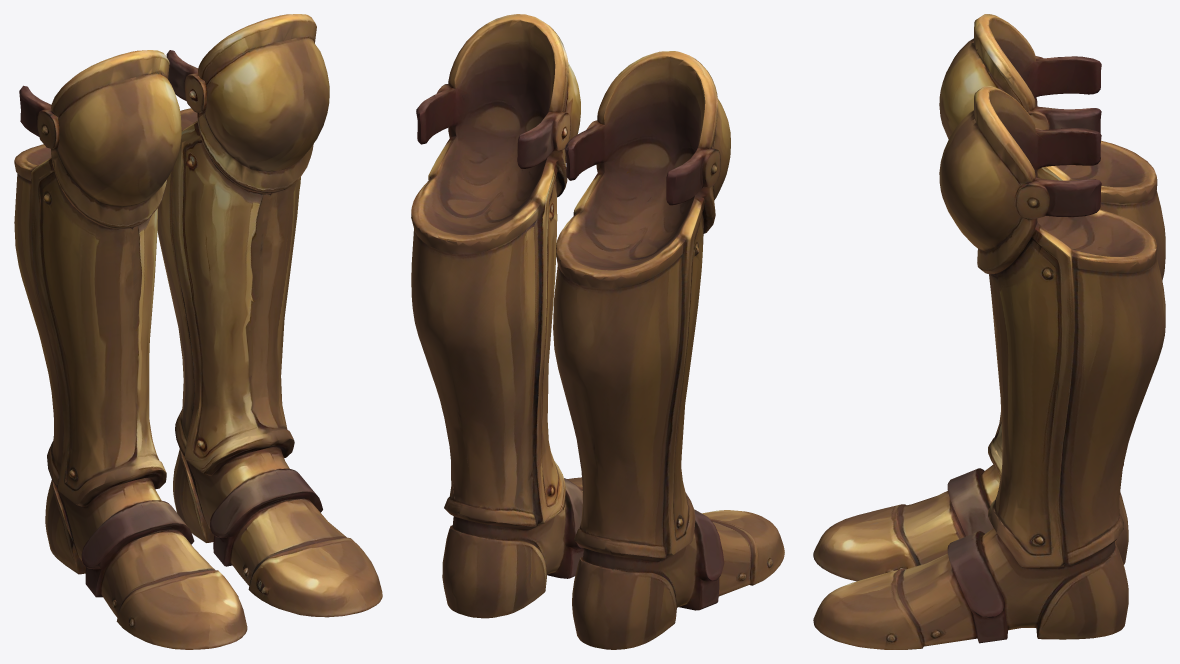
File: berserk_f_greaves.glb
3 views of the same model, side by side, from view 1: azimuth 30°, elevation 25°; view 2: azimuth 150°, elevation 25°; view 3: azimuth 270°, elevation 25° (orthographic).
Parts seen in each view (by area): view 1: model; view 2: model; view 3: model.
Boxes of the visible parts, left/top/right/bottom form: model: left=14, top=14, right=382, bottom=649; model: left=411, top=14, right=784, bottom=649; model: left=813, top=14, right=1165, bottom=649.
Bounding box in the file's own units: 0.3508 × 0.66 × 0.3934.
1 material, 1 textured.
